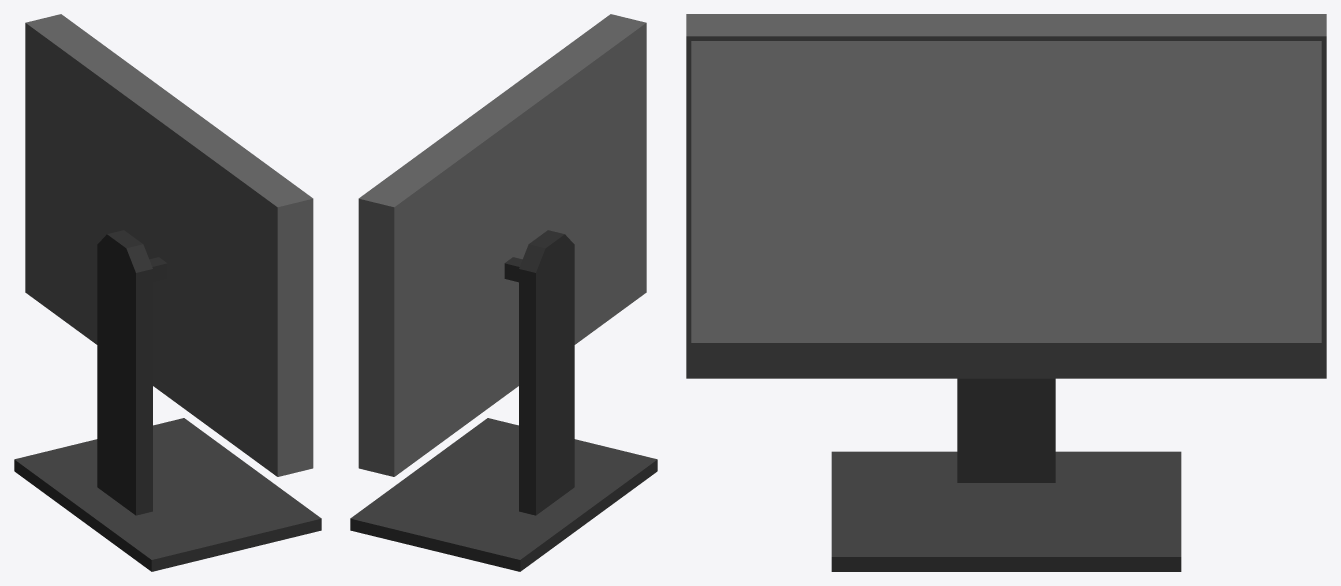
The model's file is Monitor.fbx.
3 views of the same model, side by side, from view 1: azimuth 30°, elevation 25°; view 2: azimuth 150°, elevation 25°; view 3: azimuth 270°, elevation 25° (orthographic). The views are drawn at different scales.
Parts seen in each view (by area): view 1: Monitor; view 2: Monitor; view 3: Monitor.
Boxes of the visible parts, x1,y1,x2,y2 form: Monitor: (14,14,321,571); Monitor: (350,14,657,571); Monitor: (686,14,1326,571).
Bounding box in the file's own units: 23.73 × 52.02 × 61.
Materials: 1 (1 with a texture image).
